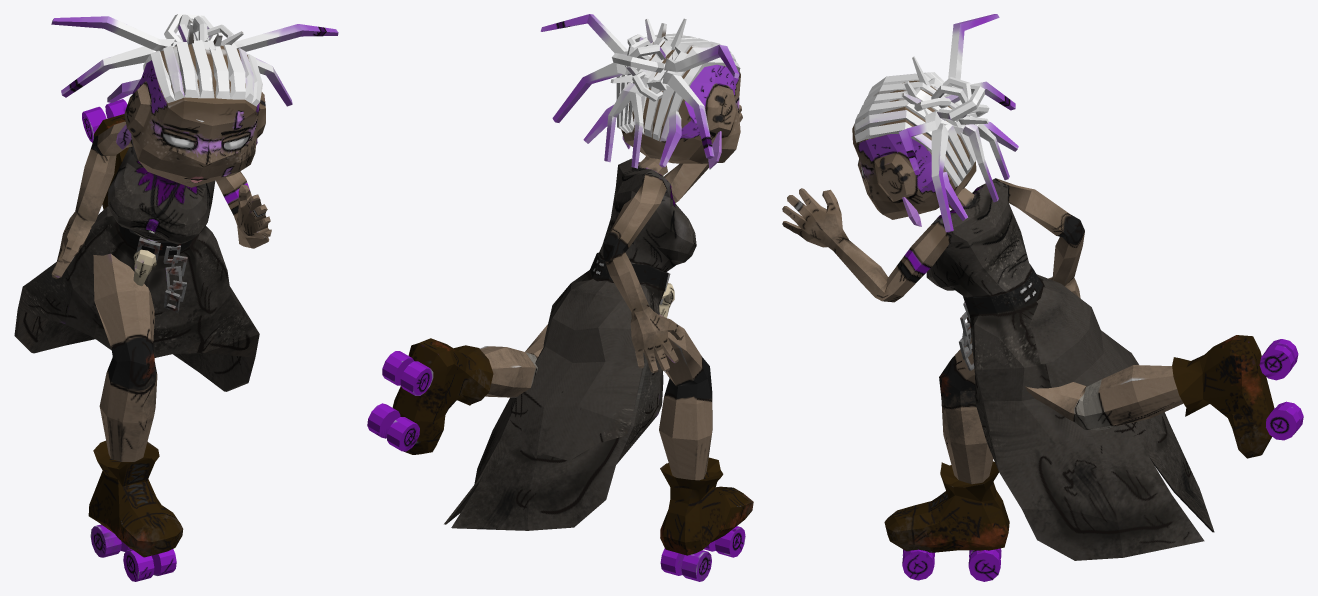
File: bruja_000011.obj
3 views of the same model, side by side, from view 1: azimuth 30°, elevation 25°; view 2: azimuth 150°, elevation 25°; view 3: azimuth 270°, elevation 25° (orthographic). The views are drawn at different scales.
Visible parts, largest first — view 1: Bruja_Plane.001; view 2: Bruja_Plane.001; view 3: Bruja_Plane.001.
Part boxes in pixels (<box>): Bruja_Plane.001: <box>14,14,338,581</box>; Bruja_Plane.001: <box>367,14,753,581</box>; Bruja_Plane.001: <box>782,14,1303,581</box>.
Size of the model in its own units: 7.1 by 15.22 by 13.33.
